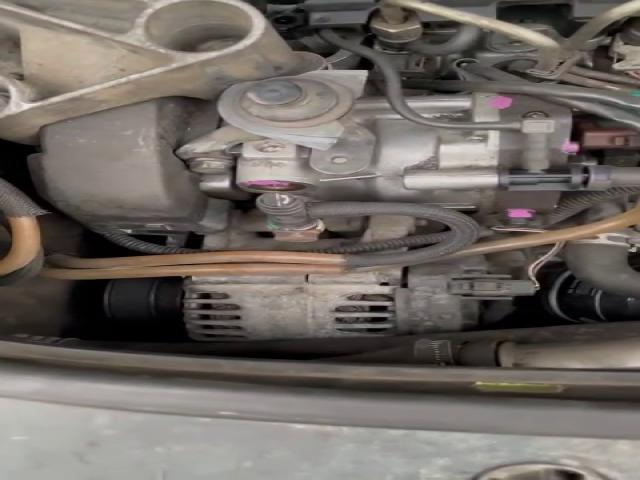alternator: (181, 263, 530, 344)
high_pressure_pump: (232, 88, 610, 228)
